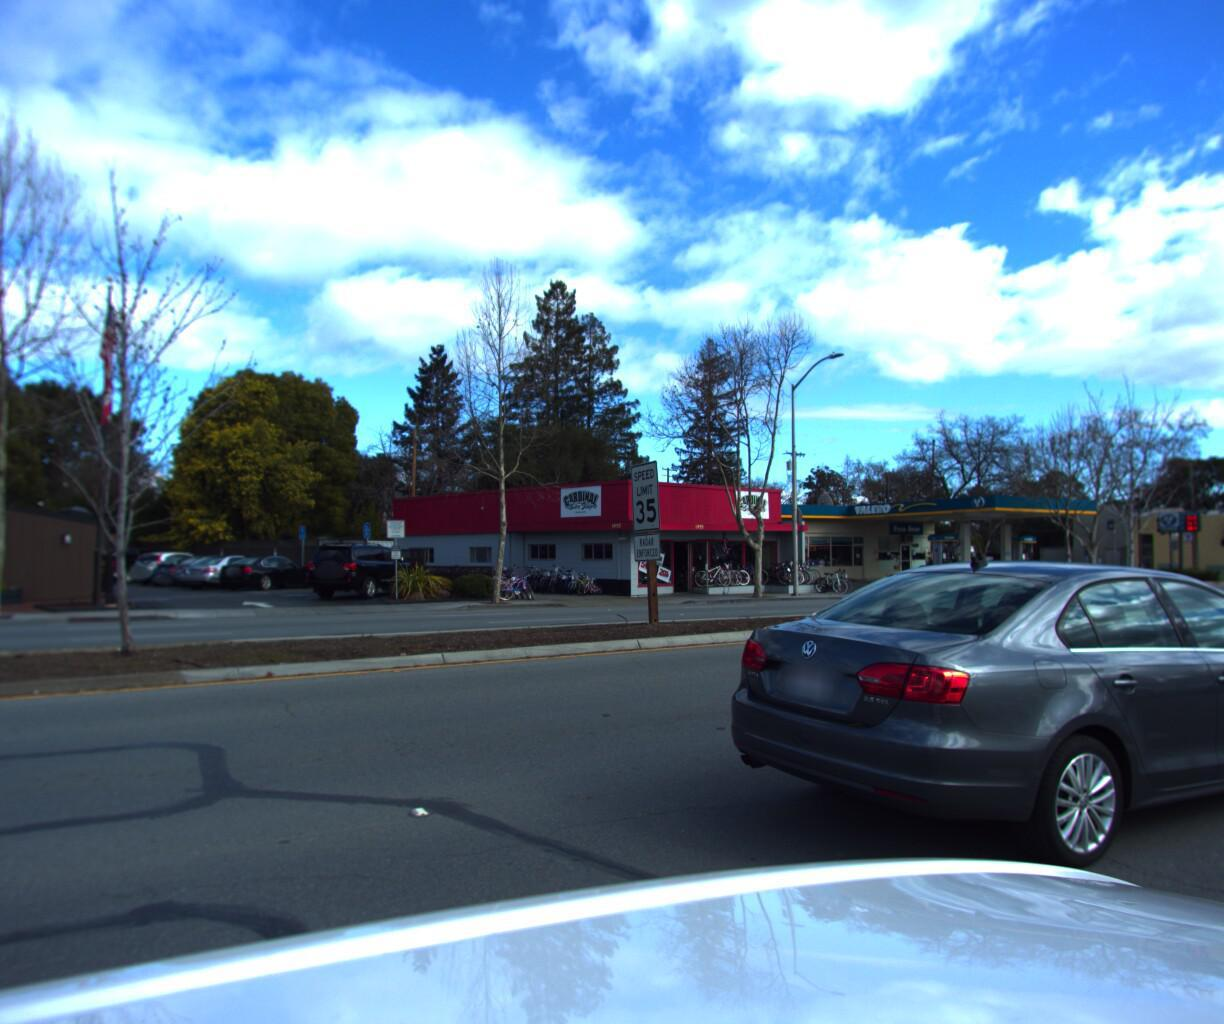bicycle: (493, 565, 540, 599), (481, 564, 528, 598), (547, 564, 589, 595), (537, 564, 579, 594), (519, 563, 560, 593), (529, 564, 569, 593), (511, 563, 551, 592), (674, 567, 712, 592), (709, 566, 746, 591), (681, 563, 719, 588), (696, 566, 733, 591), (557, 570, 597, 593), (566, 571, 607, 593), (816, 566, 853, 590)
car: (695, 546, 1224, 919), (300, 539, 427, 601), (1212, 550, 1224, 585)
truck: (884, 542, 984, 577)
